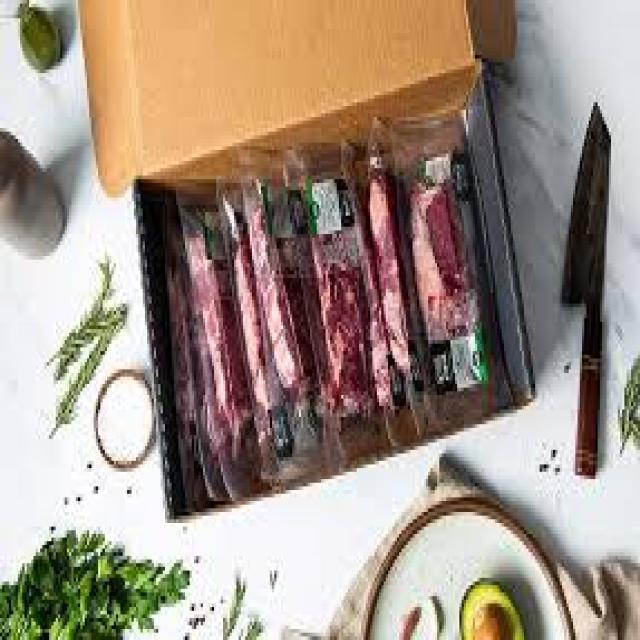Organik: (152, 130, 506, 457)
